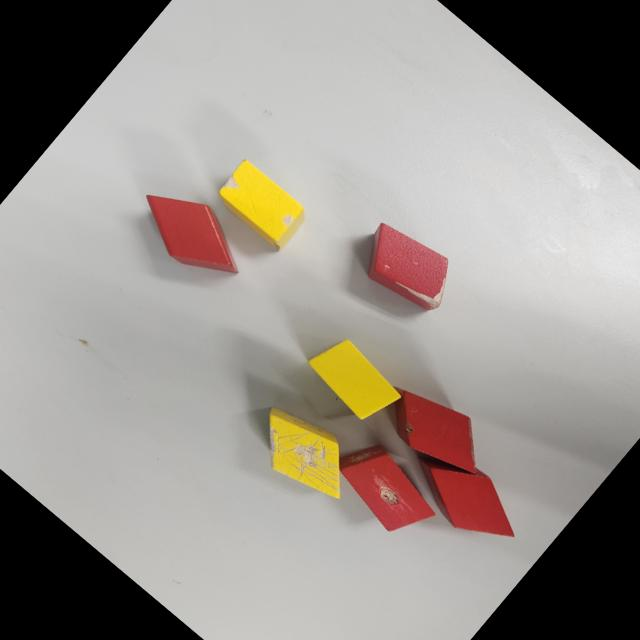broken: (369, 368, 499, 491), (236, 392, 364, 514), (321, 428, 448, 550), (348, 212, 467, 326), (212, 157, 312, 253)
red: (397, 432, 534, 562), (125, 170, 259, 296)
yellow: (300, 328, 408, 432)
